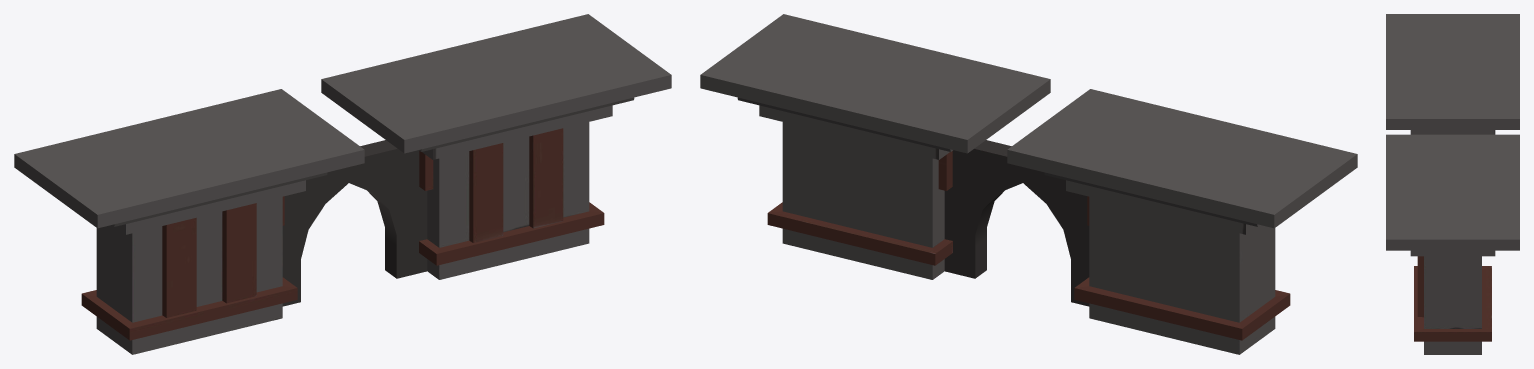
The model's file is Gate1_Asset.fbx.
The picture shows the model from 3 angles, left to right: view 1: azimuth 30°, elevation 25°; view 2: azimuth 150°, elevation 25°; view 3: azimuth 270°, elevation 25°; orthographic projection. The views are drawn at different scales.
Visible parts, largest first — view 1: pCube1; view 2: pCube1; view 3: pCube1.
Boxes of the visible parts, x1=… form: pCube1: x1=14, y1=14, x2=671, y2=354; pCube1: x1=700, y1=14, x2=1357, y2=354; pCube1: x1=1386, y1=14, x2=1519, y2=354.
Bounding box in the file's own units: 14.57 × 4.16 × 3.65.
